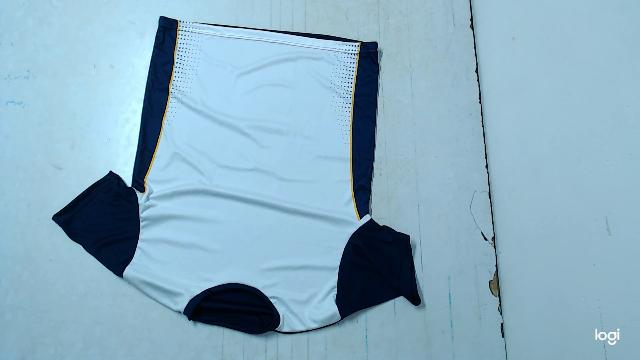new-garment: (53, 17, 421, 334)
